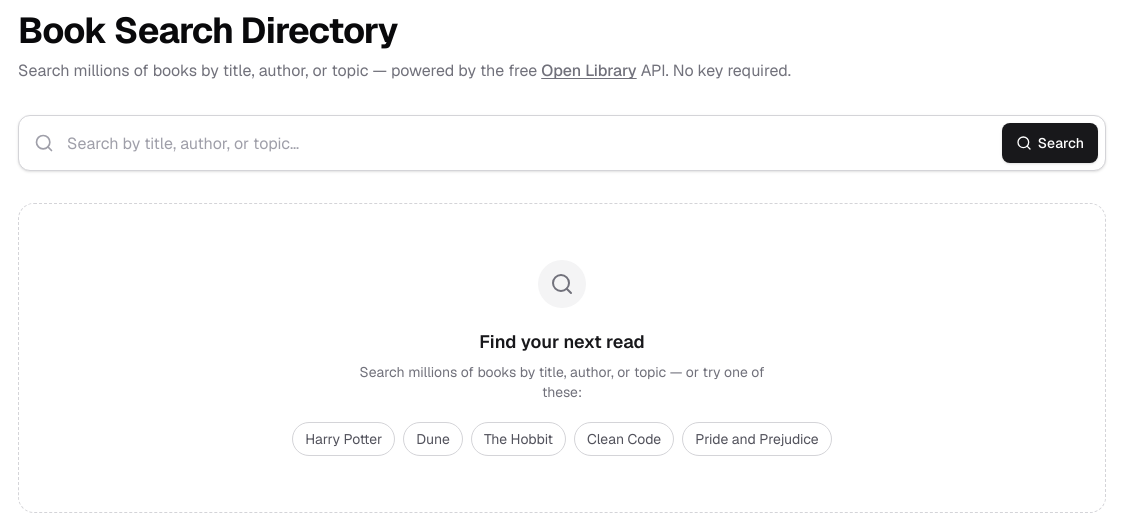
Test: SearchDirectory › renders the graceful “No results found” state
The image size is (1125, 530).
Type "zzz-no-such-book" into the search field. click: (562, 143)
box: [18, 115, 1106, 171]
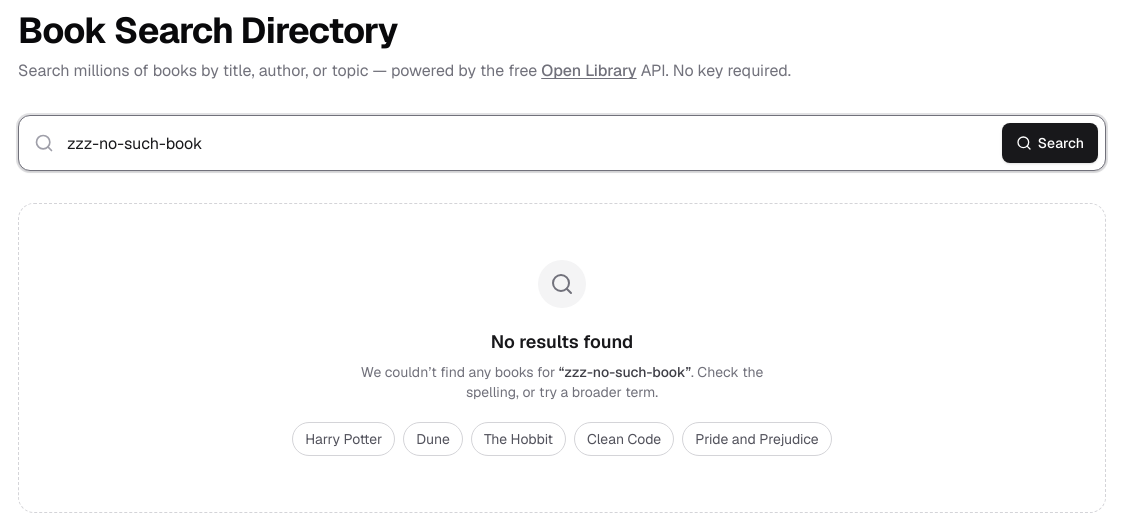
Now the heading "No results found" is shown, box [491, 330, 633, 353]
Now the text "“zzz-no-such-book”" is shown, box [559, 363, 691, 381]
